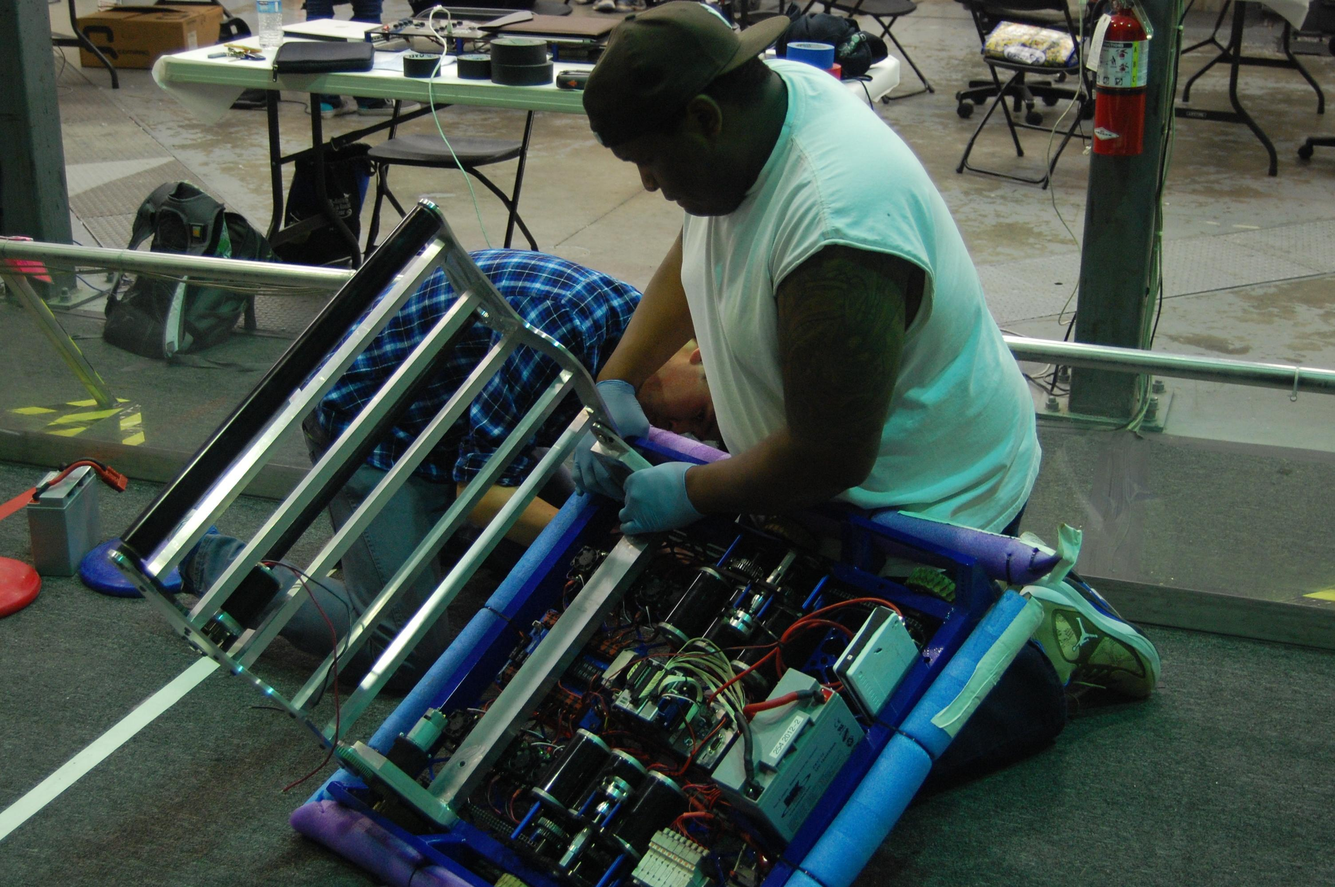robot: (96, 186, 1111, 887)
